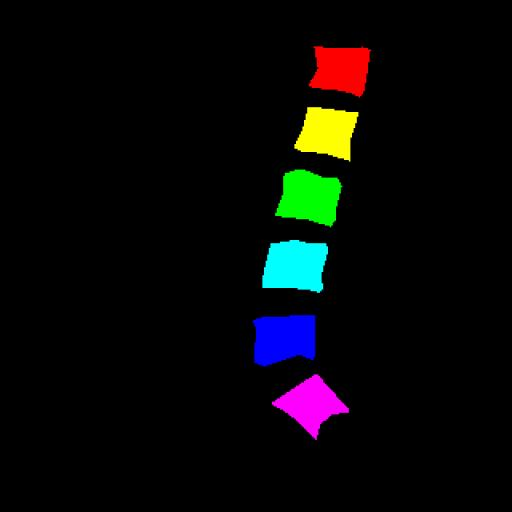L1: (309, 46, 371, 96)
L2: (295, 107, 358, 160)
L3: (275, 170, 341, 226)
L4: (262, 243, 327, 292)
L5: (253, 315, 314, 366)
S1: (272, 374, 349, 438)
